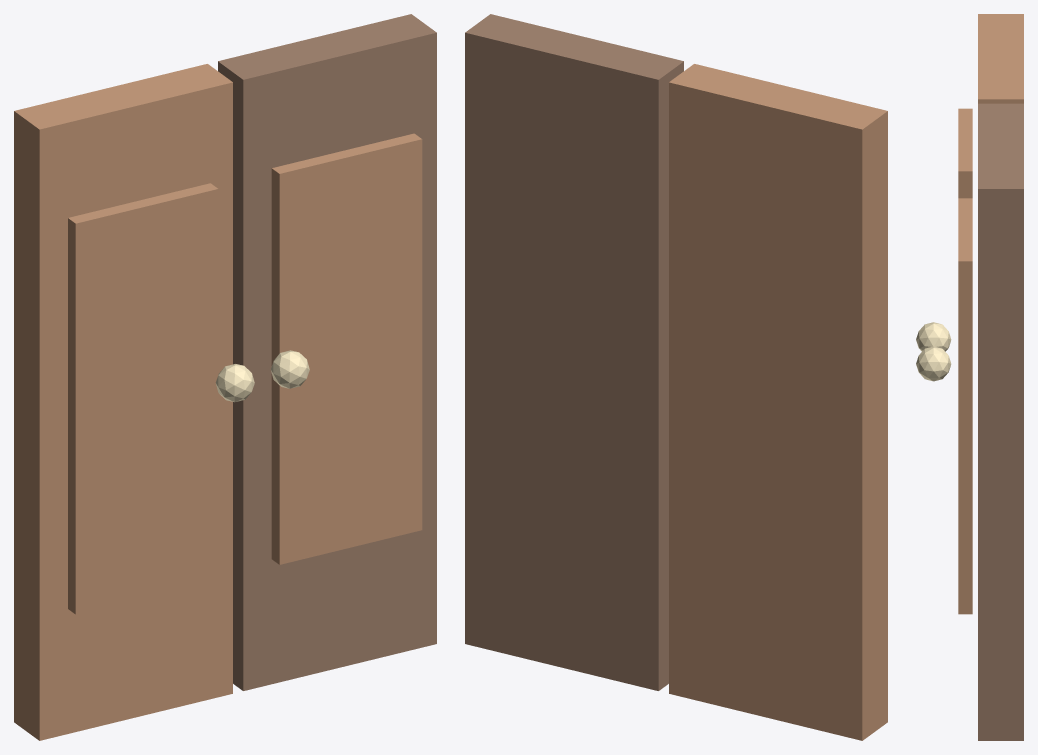
The model's file is Door_Double_Wood.glb.
3 renders of one model, left to right at view 1: azimuth 30°, elevation 25°; view 2: azimuth 150°, elevation 25°; view 3: azimuth 270°, elevation 25°, orthographic. The views are drawn at different scales.
Parts seen in each view (by area): view 1: left_0, right_1, panel_2, panel_4, handle_5, handle_3; view 2: left_0, right_1; view 3: right_1, panel_4, left_0, panel_2, handle_5, handle_3.
Part boxes in pixels (x1,y1,x2,y2): left_0: (14,64,232,740); right_1: (218,14,436,690); panel_2: (68,183,218,614); panel_4: (271,133,422,564); handle_5: (270,350,309,388); handle_3: (215,364,254,402); left_0: (669,64,887,740); right_1: (465,14,683,690); right_1: (978,103,1023,740); panel_4: (958,198,972,614); left_0: (978,14,1023,103); panel_2: (958,108,972,198); handle_5: (916,346,951,381); handle_3: (916,322,951,351).
Size of the model in its own units: 1.17 by 1.72 by 0.305.
